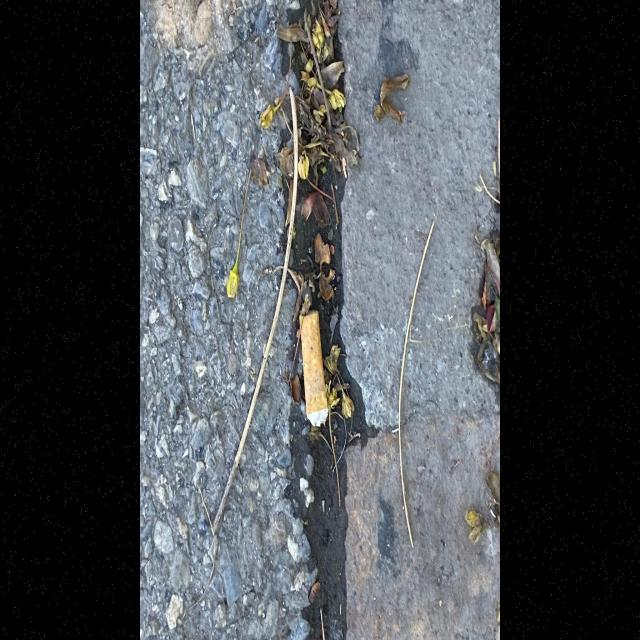other waste: (299, 309, 329, 427)
